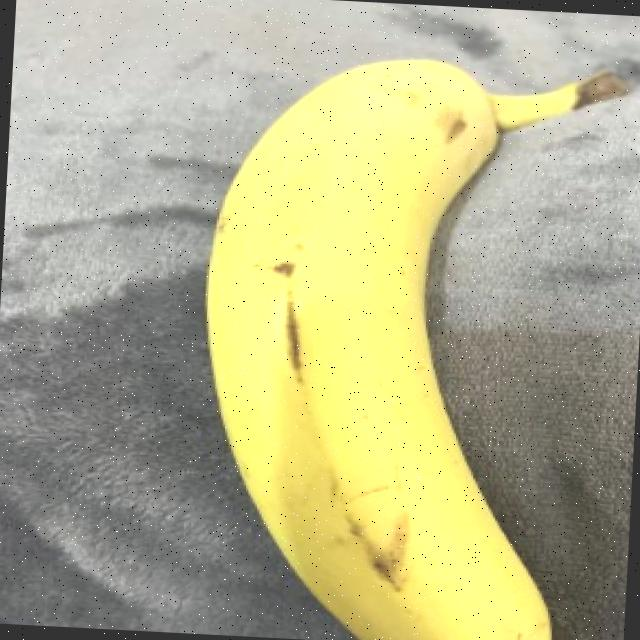Ripe: (108, 13, 640, 640)
